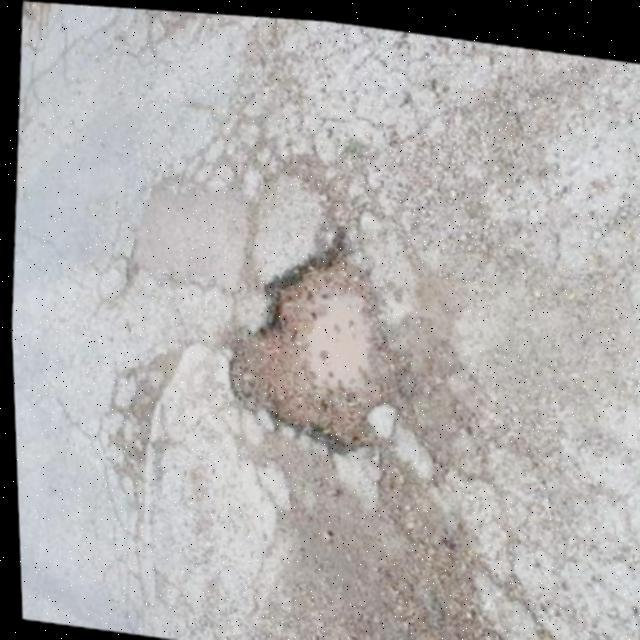pothole: (210, 227, 410, 460)
